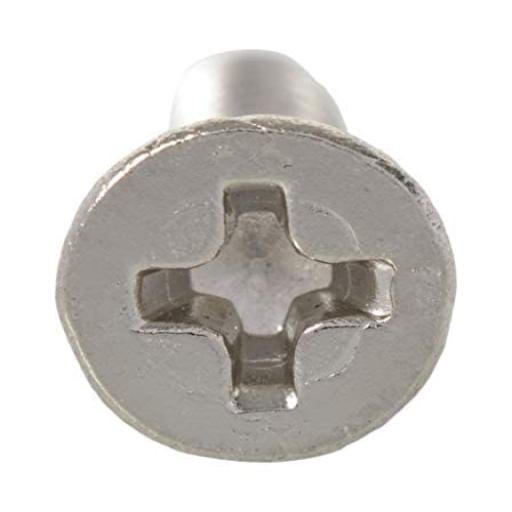Phillips: (54, 113, 454, 464)
